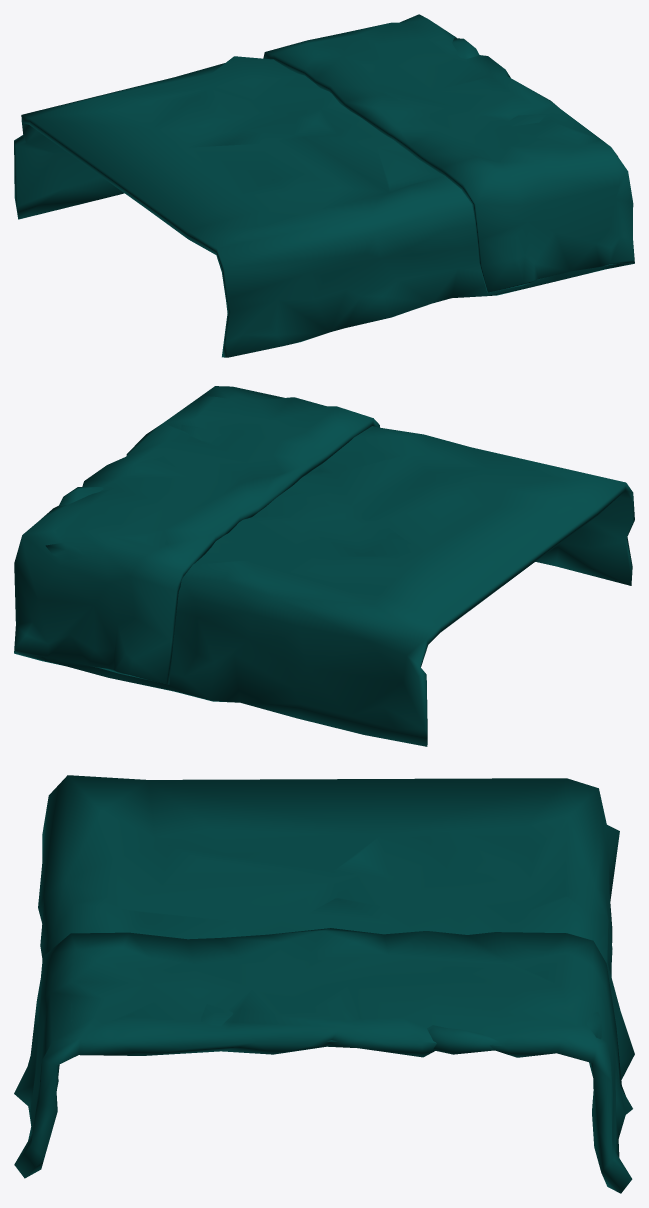
File: Blanket_Somber.fbx
3 views of the same model, one above another, from view 1: azimuth 30°, elevation 25°; view 2: azimuth 150°, elevation 25°; view 3: azimuth 270°, elevation 25° (orthographic). The views are drawn at different scales.
Visible parts, largest first — view 1: Plane; view 2: Plane; view 3: Plane.
Boxes of the visible parts, x1,y1,x2,y2 form: Plane: (14,14,634,357); Plane: (14,386,634,746); Plane: (14,775,634,1193).
Bounding box in the file's own units: 112 × 34.65 × 109.
